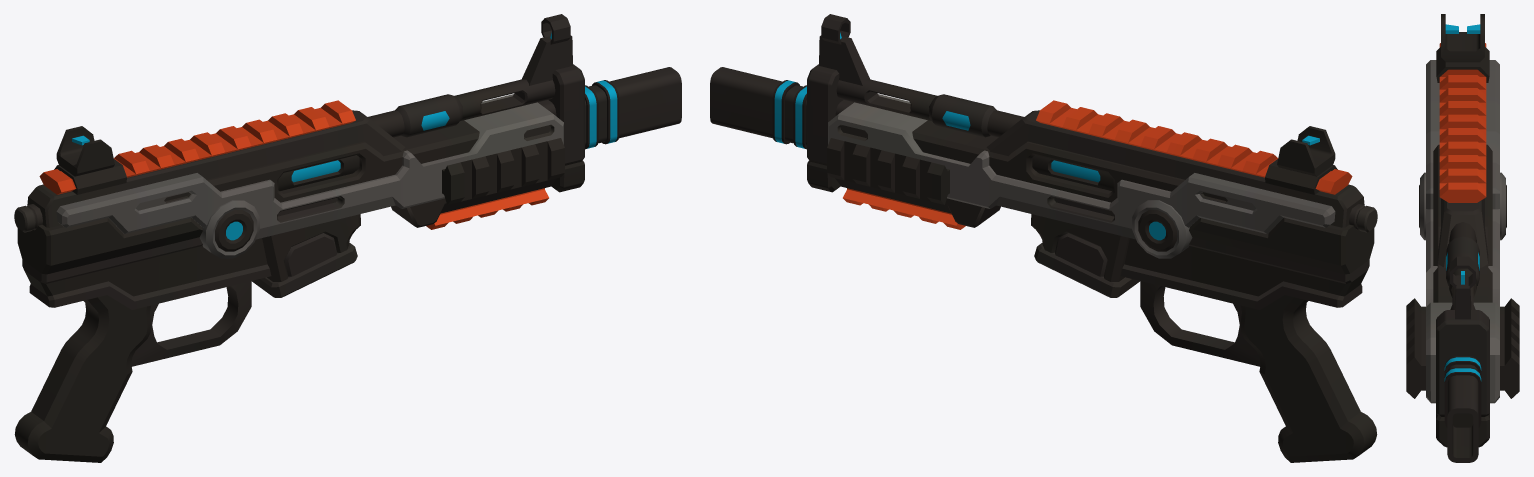
The model's file is SMG3_Base.fbx.
The picture shows the model from 3 angles, left to right: view 1: azimuth 30°, elevation 25°; view 2: azimuth 150°, elevation 25°; view 3: azimuth 270°, elevation 25°; orthographic projection. The views are drawn at different scales.
Visible parts, largest first — view 1: SMG3_Base; view 2: SMG3_Base; view 3: SMG3_Base.
Part boxes in pixels (<box>): SMG3_Base: <box>14,14,681,462</box>; SMG3_Base: <box>710,14,1377,462</box>; SMG3_Base: <box>1406,14,1519,462</box>.
Bounding box in the file's own units: 44.95 × 21.49 × 6.32.
